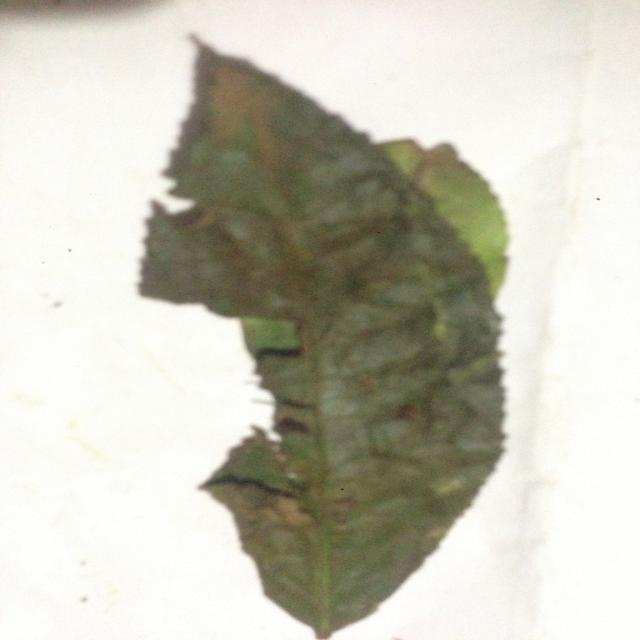Red Leaf Spot: (109, 41, 530, 640)
